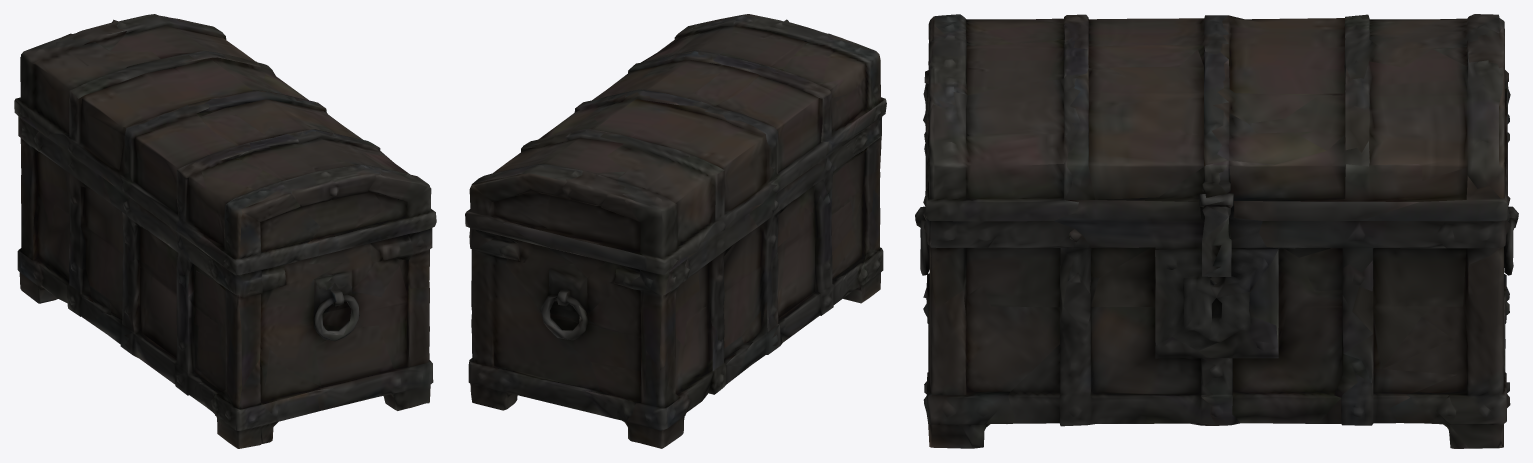
File: storage-chest.glb
3 renders of one model, left to right at view 1: azimuth 30°, elevation 25°; view 2: azimuth 150°, elevation 25°; view 3: azimuth 270°, elevation 25°, orthographic. The views are drawn at different scales.
Parts seen in each view (by area): view 1: tripo_node_e0b88d98-2de4-4017-956a-549ba911422a; view 2: tripo_node_e0b88d98-2de4-4017-956a-549ba911422a; view 3: tripo_node_e0b88d98-2de4-4017-956a-549ba911422a.
Boxes of the visible parts, bbox=[...] form: tripo_node_e0b88d98-2de4-4017-956a-549ba911422a: bbox=[14, 14, 436, 448]; tripo_node_e0b88d98-2de4-4017-956a-549ba911422a: bbox=[465, 14, 886, 448]; tripo_node_e0b88d98-2de4-4017-956a-549ba911422a: bbox=[915, 14, 1518, 448].
Size of the model in its own units: 0.5266 by 0.5968 by 1.
1 material, 1 textured.
